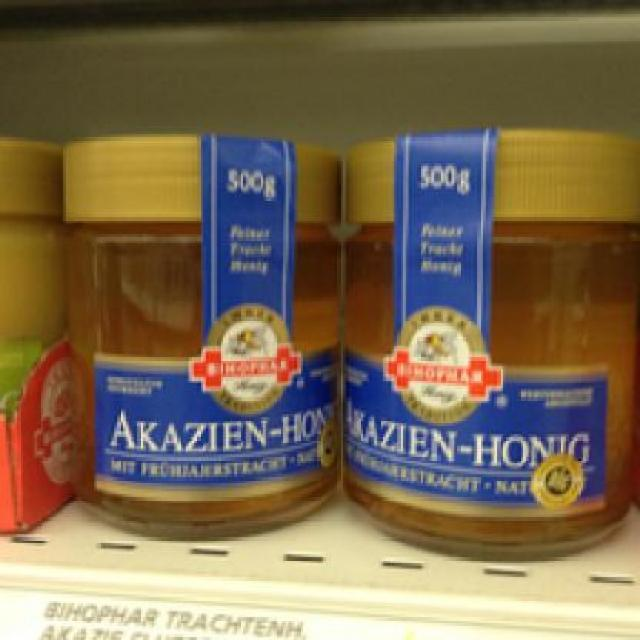Honey: (348, 125, 638, 566), (60, 130, 346, 546)
